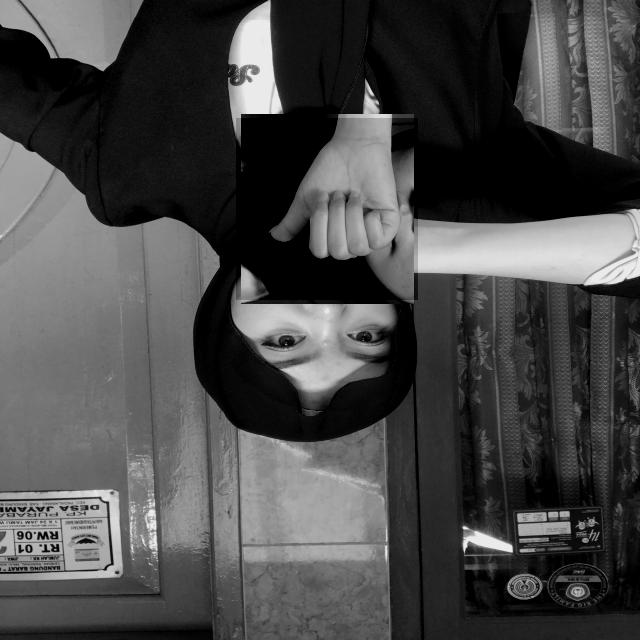sedih: (236, 118, 418, 300)
